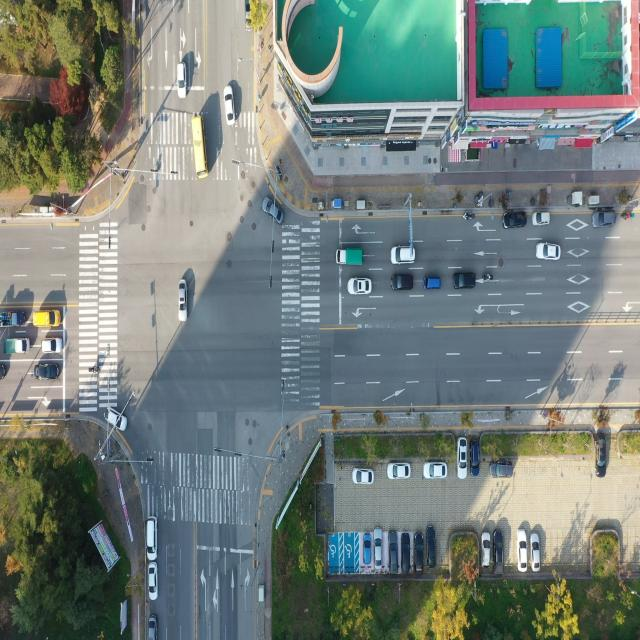car: (492, 529, 506, 576), (32, 308, 63, 328), (262, 196, 284, 224), (535, 241, 561, 263), (516, 527, 528, 574), (595, 431, 607, 478), (488, 460, 514, 481), (106, 409, 127, 433), (391, 244, 415, 264), (530, 531, 541, 572), (424, 462, 449, 480), (178, 280, 188, 324), (146, 517, 156, 559), (400, 532, 410, 574), (470, 436, 480, 478), (349, 278, 372, 296), (458, 438, 468, 479), (503, 211, 527, 228), (384, 466, 408, 483), (35, 363, 59, 380), (224, 86, 234, 126), (426, 527, 436, 567), (454, 272, 476, 290), (592, 211, 615, 228), (414, 534, 423, 574), (391, 275, 412, 292), (178, 63, 187, 101), (374, 529, 384, 563), (353, 468, 374, 484), (147, 562, 156, 599), (483, 532, 492, 567), (389, 534, 397, 573), (42, 339, 61, 354), (364, 536, 372, 566), (532, 212, 549, 226), (425, 277, 441, 291), (147, 616, 156, 640), (244, 0, 252, 27)
small_bus: (190, 109, 210, 182)
small_truck: (337, 247, 364, 266), (3, 338, 29, 356), (0, 312, 24, 328)
